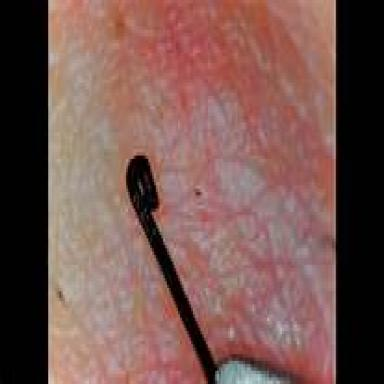Tungiasis: (126, 155, 291, 383)
